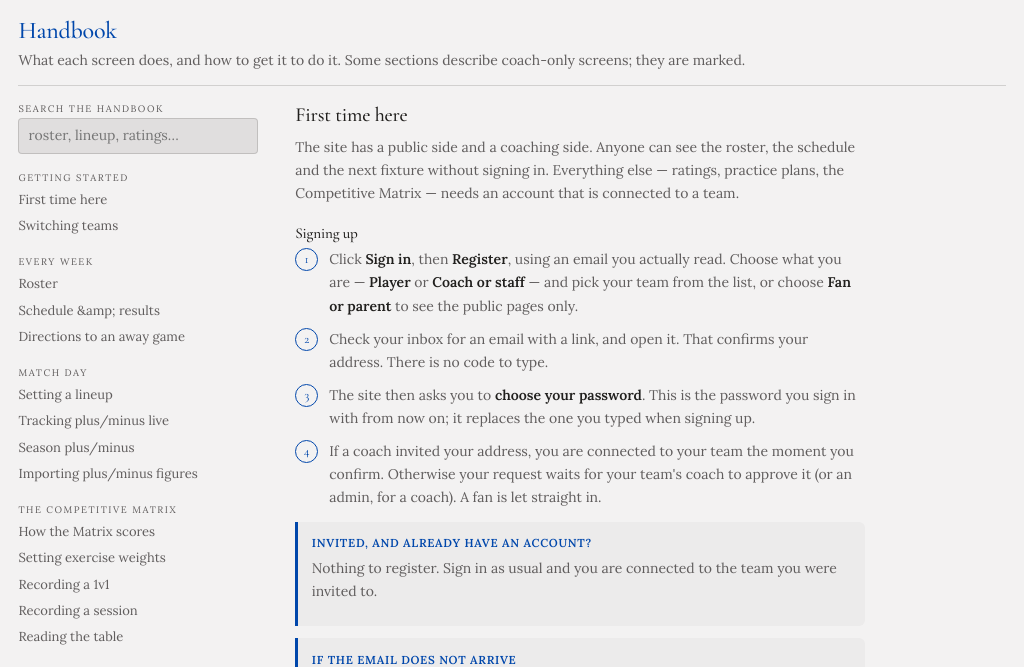
Scenario: searching › narrows to matching sections and says how many
Type "matrix" into the search field labelled "Search the handbook" at (138, 136), box [18,118,258,154]
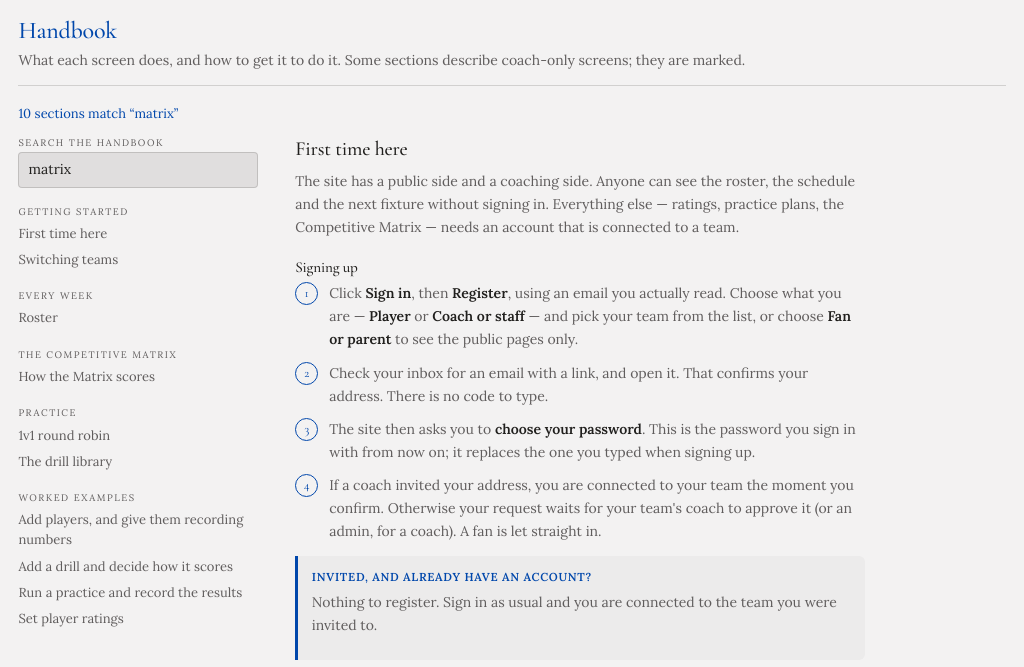
Check: the message "10 sections match “matrix”" is shown, box [18,105,178,122]
